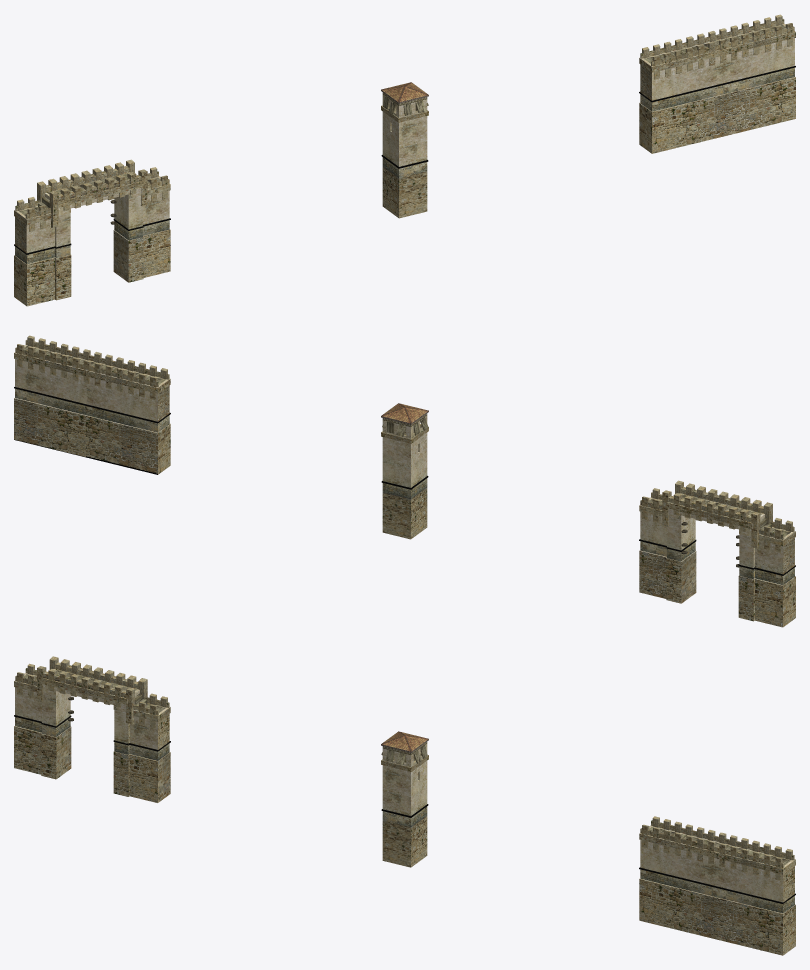
Rendered from muralha.glb.
3 renders of one model, top to bottom at view 1: azimuth 30°, elevation 25°; view 2: azimuth 150°, elevation 25°; view 3: azimuth 330°, elevation 25°, orthographic.
Parts seen in each view (by area): view 1: wlong, gate, wtower; view 2: wlong, gate, wtower; view 3: wlong, gate, wtower.
Part boxes in pixels (x1,y1,x2,y2): wlong: (639, 14, 795, 153); gate: (14, 159, 170, 306); wtower: (381, 82, 428, 218); wlong: (14, 335, 170, 474); gate: (639, 480, 795, 627); wtower: (381, 403, 428, 539); wlong: (639, 816, 795, 955); gate: (14, 656, 170, 802); wtower: (381, 731, 428, 867).
Size of the model in its own units: 4.92 by 0.7523 by 0.258.
4 materials, 4 textured.
